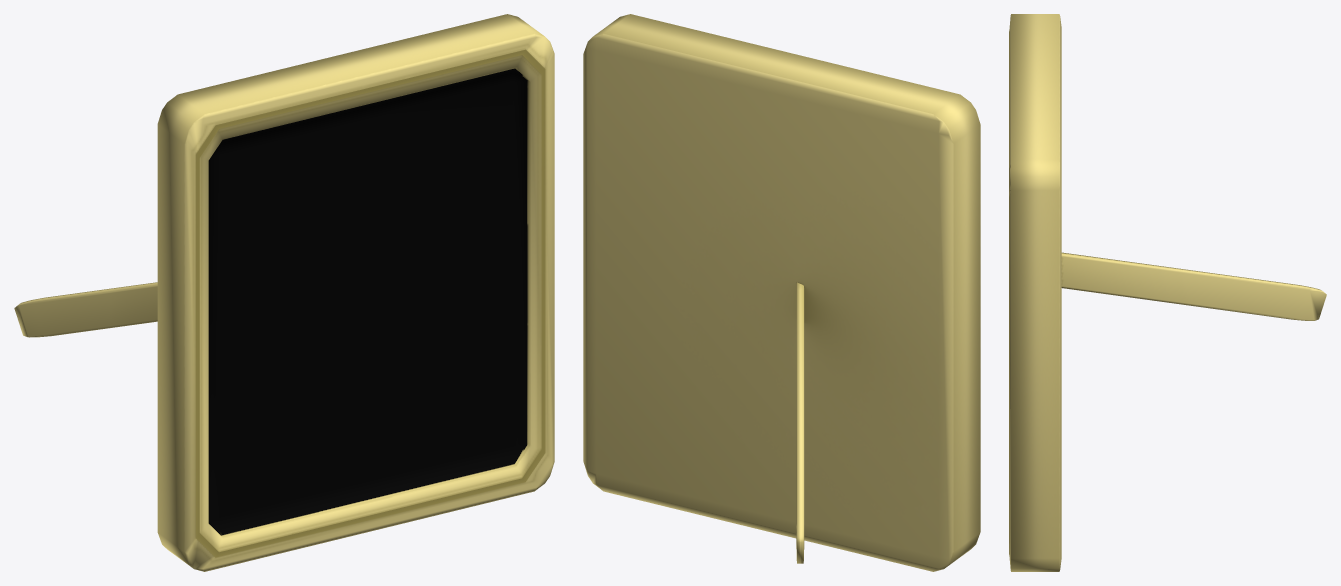
The model's file is picture frame.fbx.
3 renders of one model, left to right at view 1: azimuth 30°, elevation 25°; view 2: azimuth 150°, elevation 25°; view 3: azimuth 270°, elevation 25°, orthographic. The views are drawn at different scales.
Visible parts, largest first — view 1: Cube, Cube.001; view 2: Cube, Cube.001; view 3: Cube, Cube.001.
Part boxes in pixels (x1=…): Cube: x1=157, y1=14, x2=554, y2=571; Cube.001: x1=14, y1=282, x2=157, y2=337; Cube: x1=583, y1=14, x2=980, y2=571; Cube.001: x1=796, y1=282, x2=804, y2=563; Cube: x1=1009, y1=14, x2=1061, y2=571; Cube.001: x1=1061, y1=252, x2=1326, y2=320.
Size of the model in its own units: 220 by 260 by 181.
Materials: 2 (2 with a texture image).
